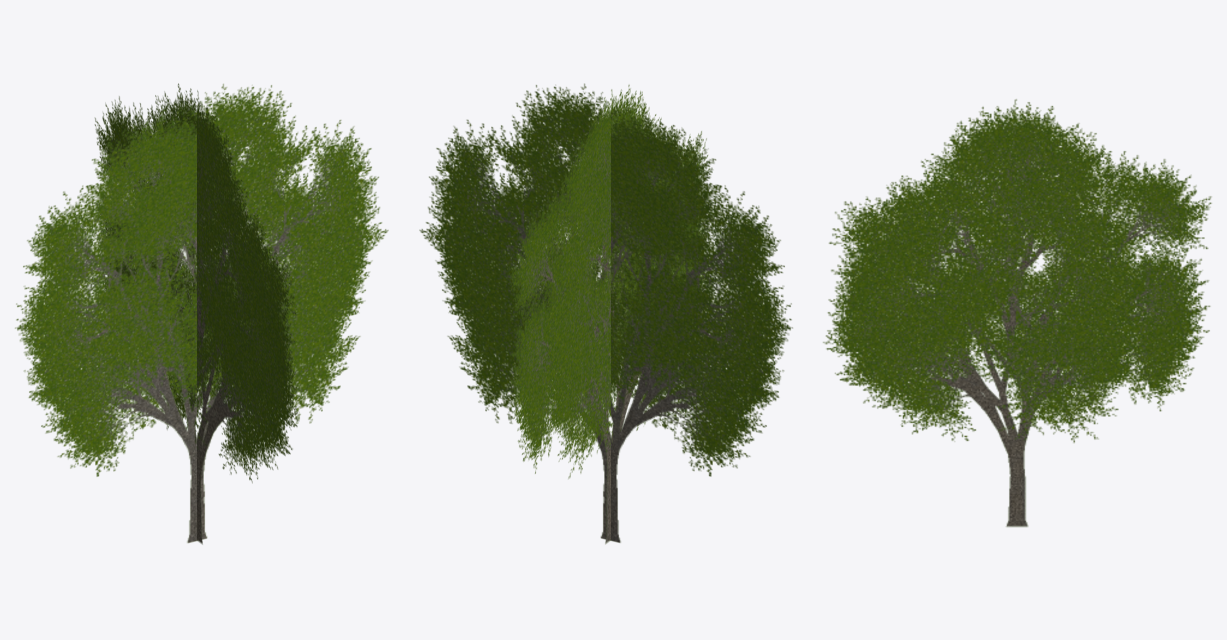
The model's file is UlmusMinor.glb.
3 renders of one model, left to right at view 1: azimuth 30°, elevation 25°; view 2: azimuth 150°, elevation 25°; view 3: azimuth 270°, elevation 25°, orthographic. The views are drawn at different scales.
Visible parts, largest first — view 1: mesh__mat_billboard_5; view 2: mesh__mat_billboard_5; view 3: mesh__mat_billboard_5.
Part boxes in pixels (x1,y1,x2,y2): mesh__mat_billboard_5: (15,83,388,544); mesh__mat_billboard_5: (419,83,792,544); mesh__mat_billboard_5: (823,99,1211,526).
Size of the model in its own units: 21.09 by 24.79 by 20.02.
1 material, 1 textured.
